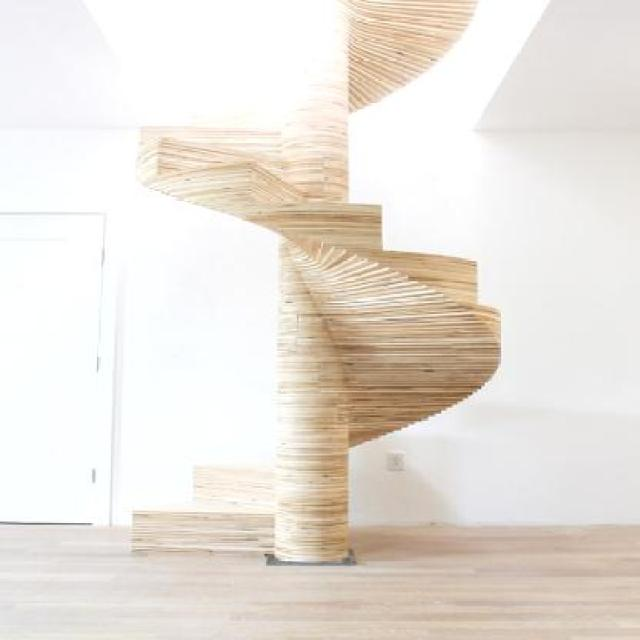stair: (81, 0, 498, 549)
